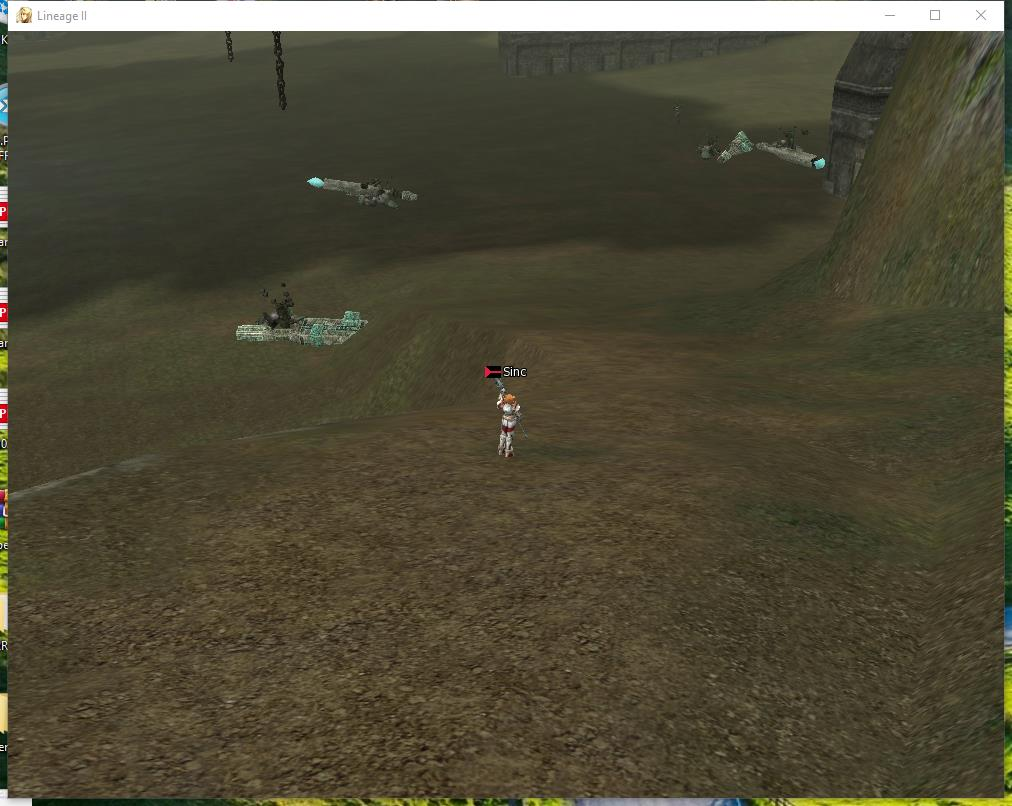monster: (228, 269, 386, 363), (691, 112, 837, 186), (302, 157, 430, 217)
